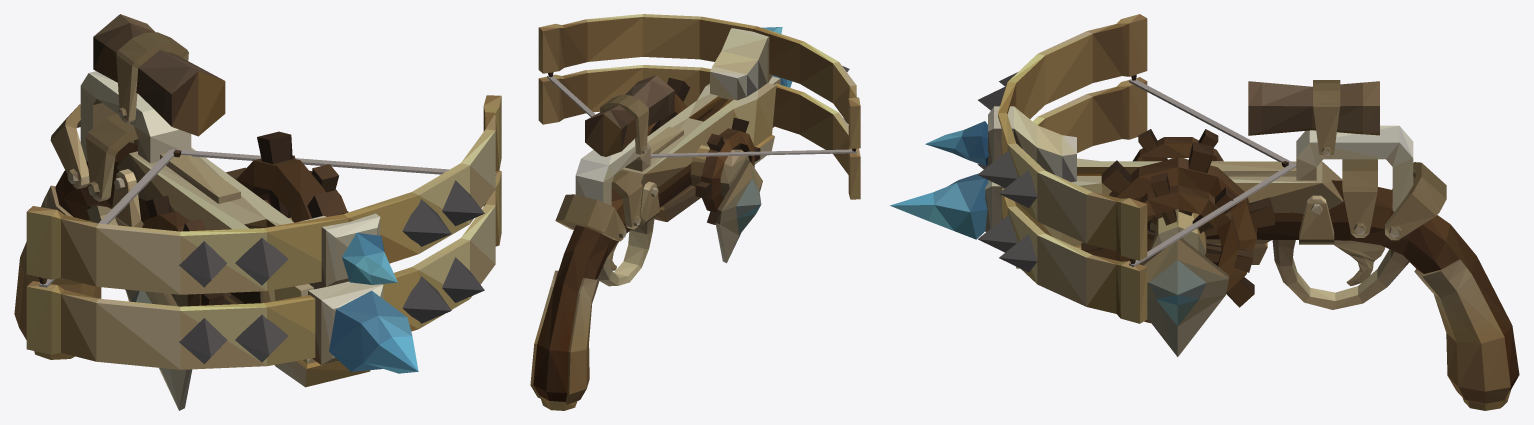
File: weapon_crossbow_gold_5.fbx
The picture shows the model from 3 angles, left to right: view 1: azimuth 30°, elevation 25°; view 2: azimuth 150°, elevation 25°; view 3: azimuth 270°, elevation 25°; orthographic projection. The views are drawn at different scales.
Parts seen in each view (by area): view 1: weapon_crossbow_gold_5; view 2: weapon_crossbow_gold_5; view 3: weapon_crossbow_gold_5.
Part boxes in pixels (x1,y1,x2,y2): weapon_crossbow_gold_5: [14, 14, 501, 410]; weapon_crossbow_gold_5: [530, 14, 860, 410]; weapon_crossbow_gold_5: [890, 14, 1519, 410].
Size of the model in its own units: 0.8673 by 0.6664 by 1.19.
